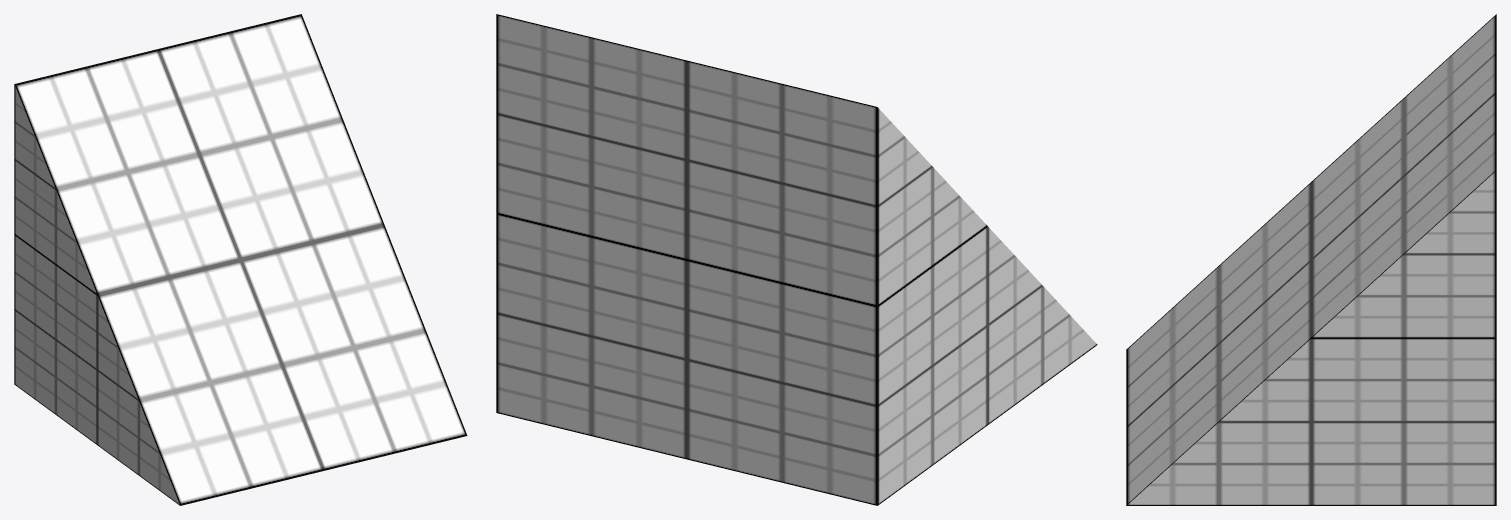
The model's file is steep-slope.fbx.
3 renders of one model, left to right at view 1: azimuth 30°, elevation 25°; view 2: azimuth 150°, elevation 25°; view 3: azimuth 270°, elevation 25°, orthographic. The views are drawn at different scales.
Visible parts, largest first — view 1: Yplus, Xminus; view 2: Zminus, Xminus; view 3: Xplus, Yplus.
Boxes of the visible parts, box(x1,y1,x2,y2) form: Yplus: box(14, 14, 467, 505); Xminus: box(14, 84, 179, 505); Zminus: box(496, 14, 877, 505); Xminus: box(877, 107, 1097, 505); Xplus: box(1127, 171, 1496, 505); Yplus: box(1126, 14, 1496, 505).
Bounding box in the file's own units: 100 × 100 × 100.
